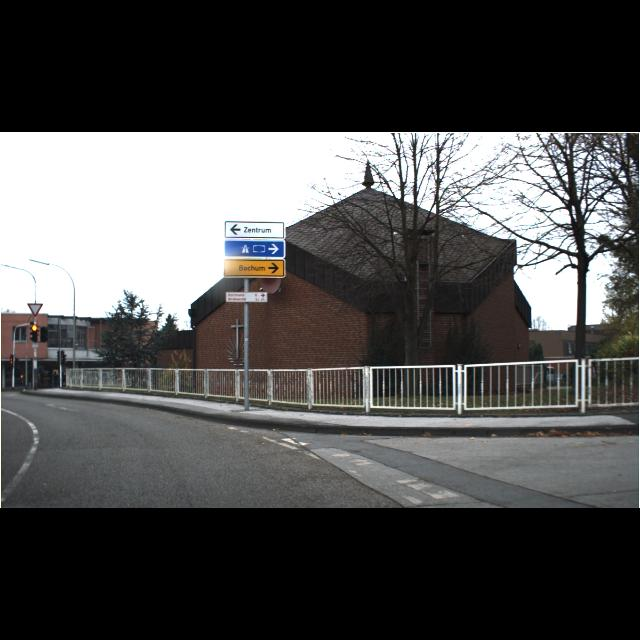other: (27, 302, 43, 318)
